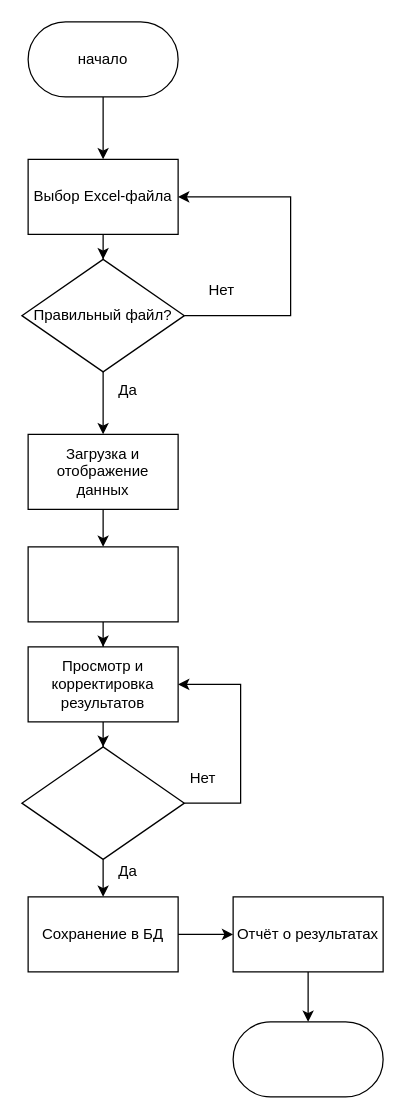
Image size: 405x1119. Some labels were removed from this diagram. The shapes that lost their labels are listed below. From the top down, each one's centre as x and y in pixels, then its label:
At [102,584]: "Сопоставление учебных заведений".
At [102,802]: "Всё сопоставлено?".
At [307,1059]: "конец".
